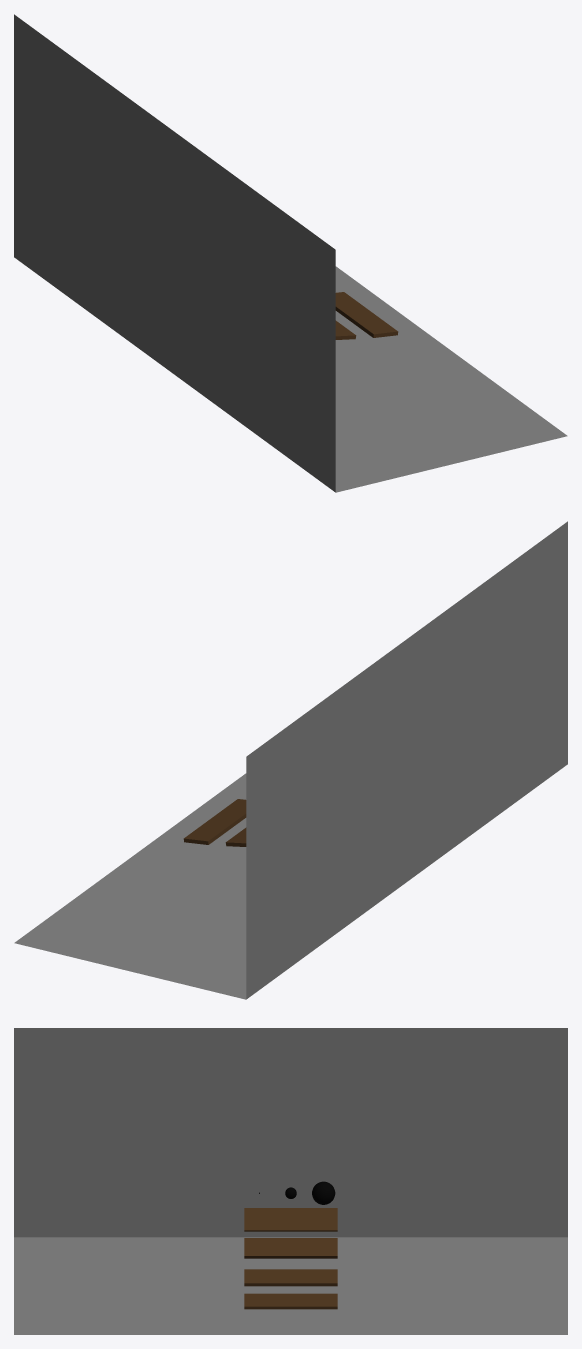
File: veach-mis2.obj
3 renders of one model, top to bottom at view 1: azimuth 30°, elevation 25°; view 2: azimuth 150°, elevation 25°; view 3: azimuth 270°, elevation 25°, orthographic. The views are drawn at different scales.
Size of the model in its own units: 19.8 by 19.8 by 47.52.
